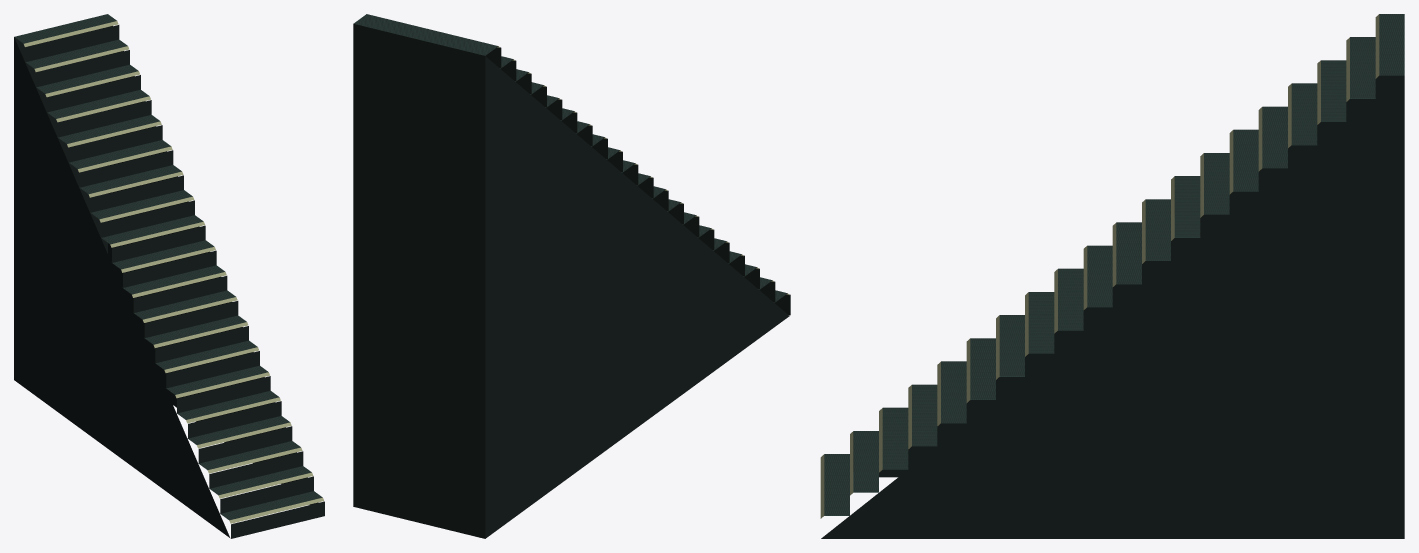
File: SM_Machine_Stair_100x400x350.fbx
The picture shows the model from 3 angles, left to right: view 1: azimuth 30°, elevation 25°; view 2: azimuth 150°, elevation 25°; view 3: azimuth 270°, elevation 25°; orthographic projection. The views are drawn at different scales.
Parts seen in each view (by area): view 1: SM_Machine_Stair_100x400x350.001; view 2: SM_Machine_Stair_100x400x350.001; view 3: SM_Machine_Stair_100x400x350.001.
Boxes of the visible parts, bbox=[...] form: SM_Machine_Stair_100x400x350.001: bbox=[14, 14, 324, 538]; SM_Machine_Stair_100x400x350.001: bbox=[353, 14, 790, 538]; SM_Machine_Stair_100x400x350.001: bbox=[820, 14, 1404, 538].
Bounding box in the file's own units: 1 × 3.5 × 4.01.
